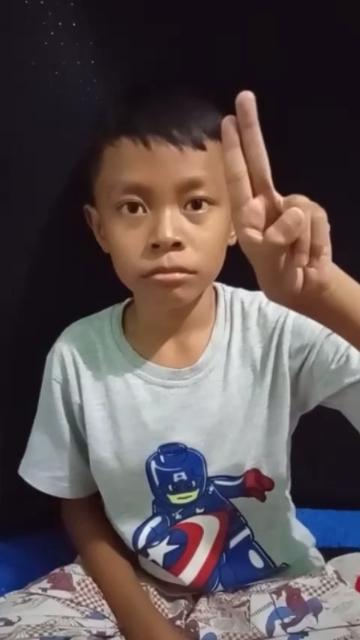U: (218, 85, 340, 318)
